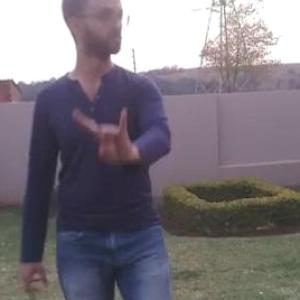takeoff-hand: (66, 96, 139, 172)
